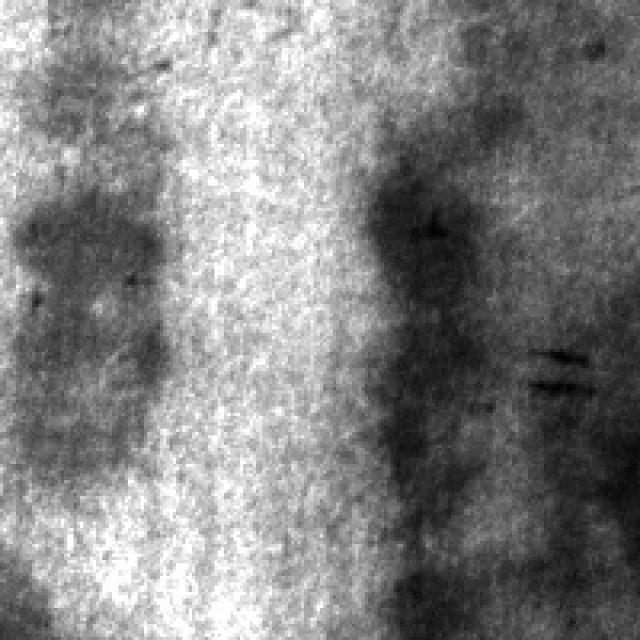patches: (364, 124, 506, 554), (3, 163, 166, 480), (365, 538, 502, 636)
